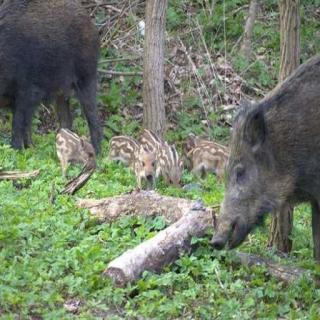Pig: (205, 60, 320, 265), (0, 4, 118, 130)
